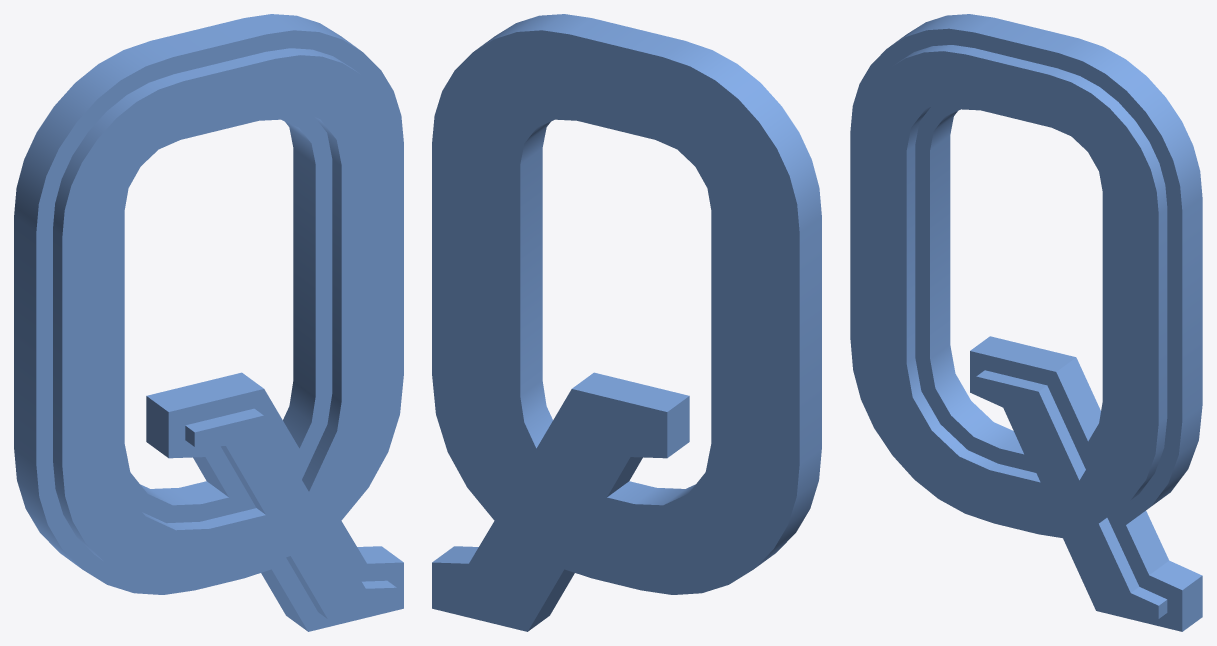
Rendered from uploads_files_2164746_Q1.FBX.
3 views of the same model, side by side, from view 1: azimuth 30°, elevation 25°; view 2: azimuth 150°, elevation 25°; view 3: azimuth 330°, elevation 25° (orthographic). The views are drawn at different scales.
Visible parts, largest first — view 1: Q; view 2: Q; view 3: Q.
Boxes of the visible parts, x1,y1,x2,y2 form: Q: (14,14,403,631); Q: (432,14,821,631); Q: (850,14,1202,631).
Size of the model in its own units: 3.33 by 5.27 by 0.5.
